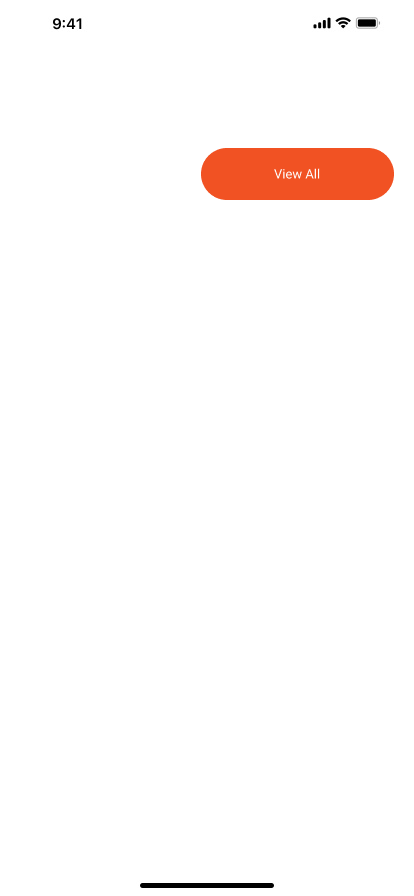Buttons: (201, 148, 394, 200)
Home Indicator: (0, 862, 414, 896)
Status Bar: (0, 0, 414, 44)
